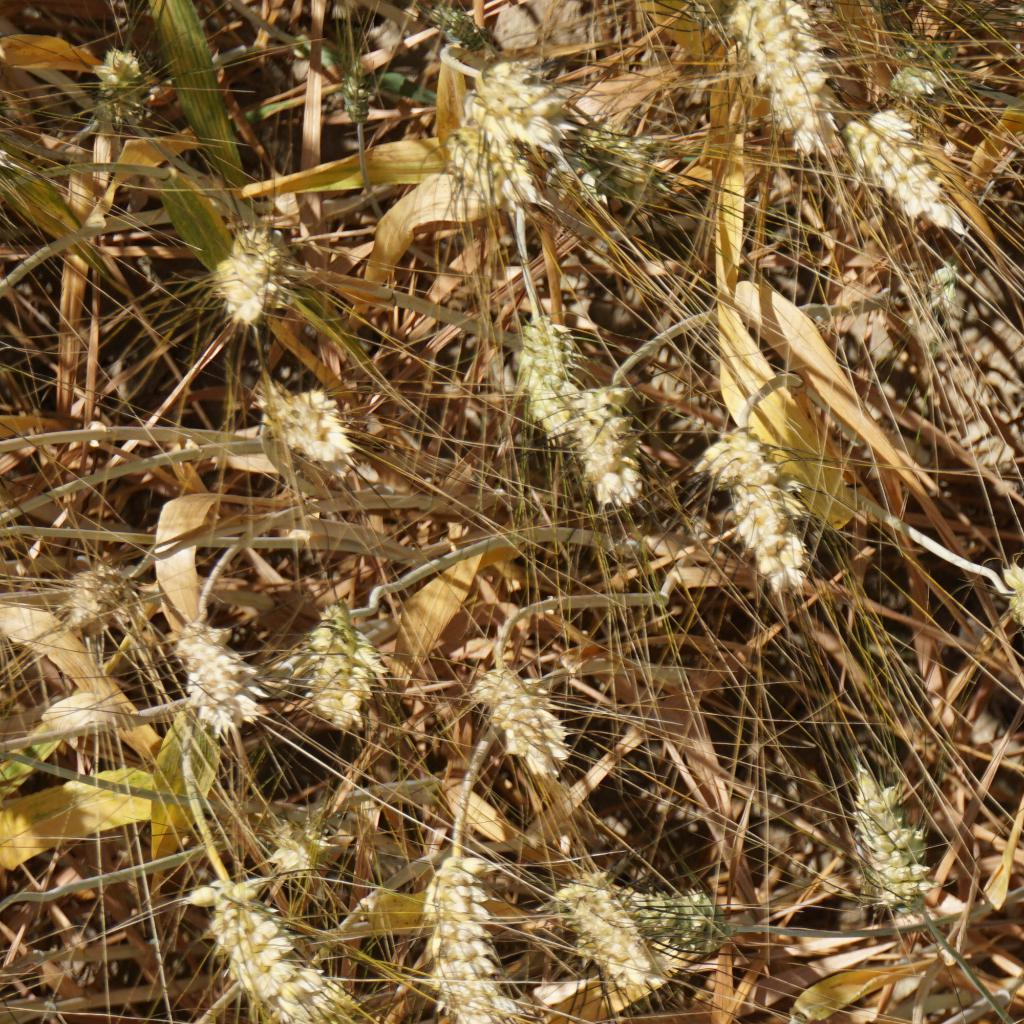0-0: (709, 425, 835, 598), (409, 846, 527, 1024), (208, 889, 346, 1024), (726, 0, 846, 149), (835, 102, 963, 226), (854, 770, 956, 925), (478, 657, 579, 772), (293, 600, 381, 728), (561, 856, 653, 976), (567, 376, 644, 505), (446, 114, 549, 210), (171, 612, 262, 720), (496, 299, 572, 423), (84, 41, 175, 139), (449, 57, 557, 139), (645, 888, 742, 978), (265, 787, 353, 882), (265, 386, 360, 466), (210, 222, 283, 325), (332, 55, 388, 134), (69, 557, 137, 618), (992, 545, 1024, 640)
